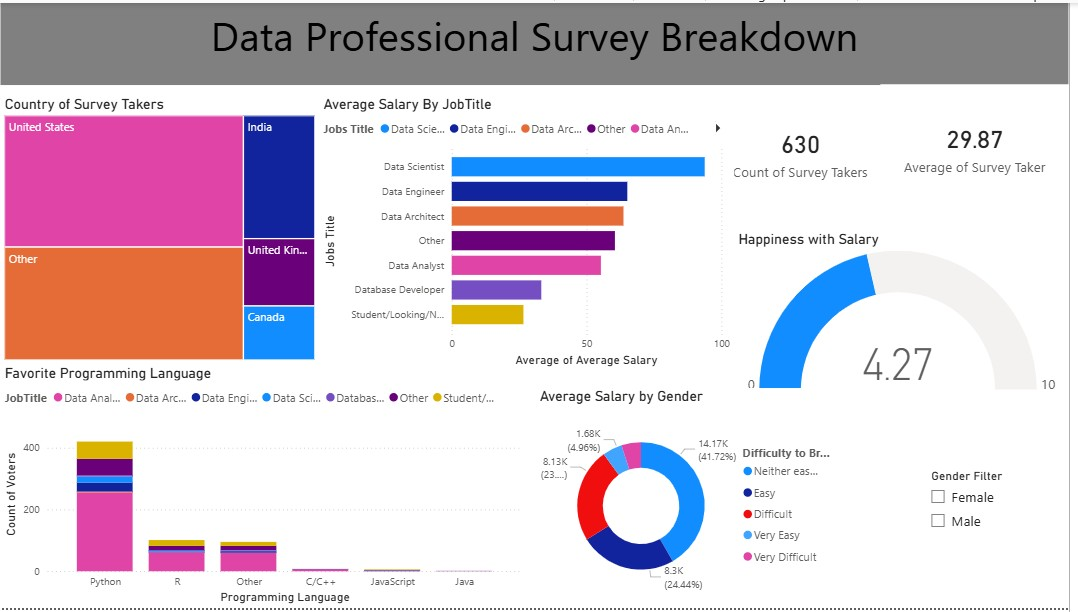

The page's visual inventory and layout, read from the dashboard file:
{"tool":"powerbi","page":{"name":"Page 1","canvas":[1280,720],"ordinal":0},"visuals":[{"type":"textbox","box":[9.6,0,1270.7,97.4],"z":0},{"type":"card","fields":{"Values":["CountNonNull(Data Professional Survey.Unique ID)"]},"box":[866.9,102.6,187.4,148.7],"z":1000},{"type":"card","fields":{"Values":["Avg(Data Professional Survey.Q10 - Current Age)"]},"box":[1055.8,96.7,224.5,148.7],"z":2000},{"type":"barChart","title":"Average Salary By JobTitle","fields":{"Category":["Data Professional Survey.Q1 - Which Title Best Fits your Current Role?.1"],"Y":["Avg(Data Professional Survey.Average Salary)"],"Series":["Data Professional Survey.Q1 - Which Title Best Fits your Current Role?.1"]},"box":[388.1,110,493.7,327.1],"z":3000},{"type":"columnChart","title":"Favorite Programming Language","fields":{"Category":["Data Professional Survey.Q5 - Favorite Programming Language.1"],"Y":["CountNonNull(Data Professional Survey.Unique ID)"],"Series":["Data Professional Survey.Q1 - Which Title Best Fits your Current Role?.1"]},"box":[8.9,429.7,626,290],"z":4000},{"type":"treemap","title":"Country of Survey Takers","fields":{"Group":["Data Professional Survey.Q11 - Which Country do you live in?.1"],"Values":["CountNonNull(Data Professional Survey.Q11 - Which Country do you live in?.1)"]},"box":[8.9,110,379.2,319.7],"z":5000},{"type":"gauge","title":"Happiness with Salary ","fields":{"Y":["Avg(Data Professional Survey.Q6 - How Happy are you in your Current Position with the following? (Salary))"],"MinValue":["Min(Data Professional Survey.Q6 - How Happy are you in your Current Position with the following? (Salary))"],"MaxValue":["Max(Data Professional Survey.Q6 - How Happy are you in your Current Position with the following? (Salary))"]},"box":[881.8,270.6,398.5,199.3],"z":6000},{"type":"donutChart","title":"Average Salary by Gender","fields":{"Y":["Sum(Data Professional Survey.Average Salary)"],"Category":["Data Professional Survey.Q7 - How difficult was it for you to break into Data?"]},"box":[645.4,458,355.4,261.7],"z":7000},{"type":"slicer","fields":{"Values":["Data Professional Survey.Q9 - Male/Female?"]},"box":[1103.3,548.7,156.1,114.5],"z":8000}]}

Visuals, with their boxes in screenshot pixels (x1, y1, x2, y2), scaled from the page's 1280x720 canvas onto the 1078x612 screenshot:
textbox: 8, 0, 1077, 83
card - CountNonNull(Data Professional Survey.Unique ID): 730, 87, 888, 214
card - Avg(Data Professional Survey.Q10 - Current Age): 889, 82, 1077, 209
"Average Salary By JobTitle" barChart: 327, 94, 743, 372
"Favorite Programming Language" columnChart: 7, 365, 535, 611
"Country of Survey Takers" treemap: 7, 94, 327, 365
"Happiness with Salary " gauge: 743, 230, 1077, 399
"Average Salary by Gender" donutChart: 544, 389, 843, 611
slicer - Data Professional Survey.Q9 - Male/Female?: 929, 466, 1061, 564
